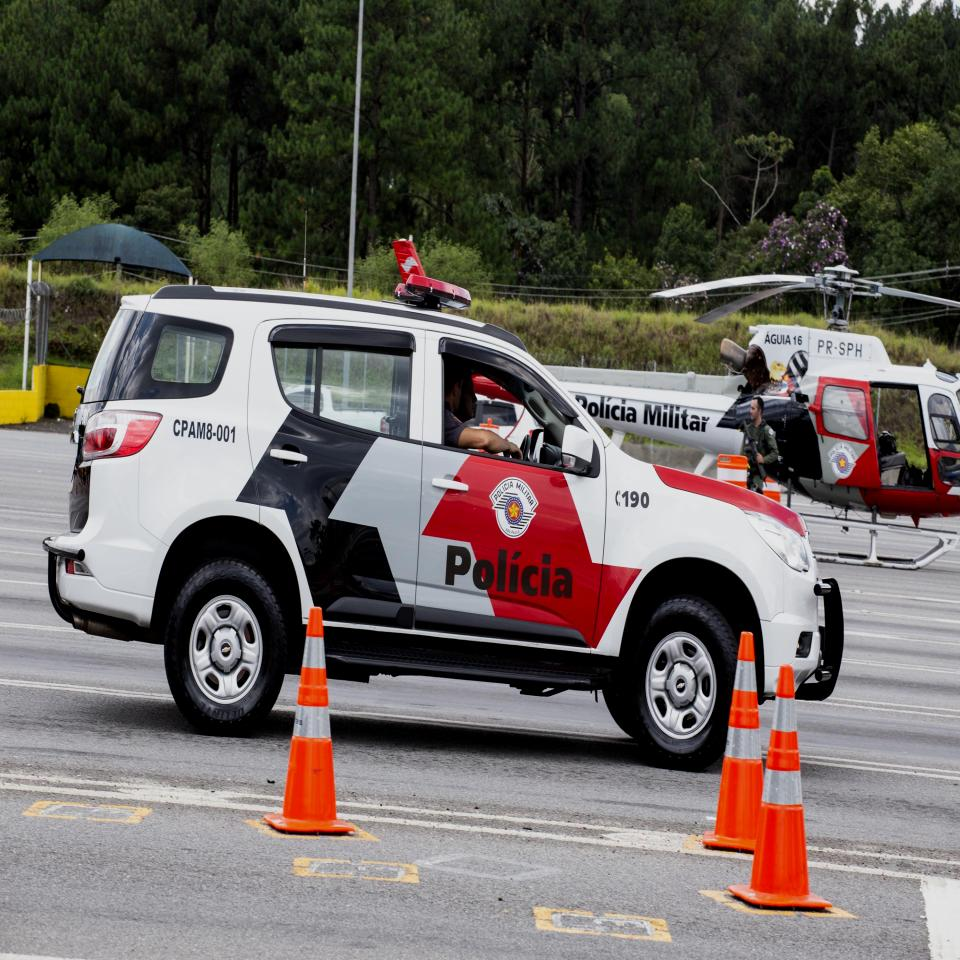viatura: (42, 252, 848, 770)
